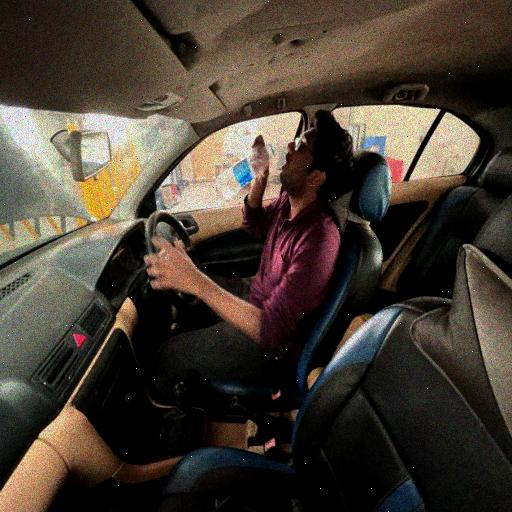Drinking: (197, 114, 362, 364)
